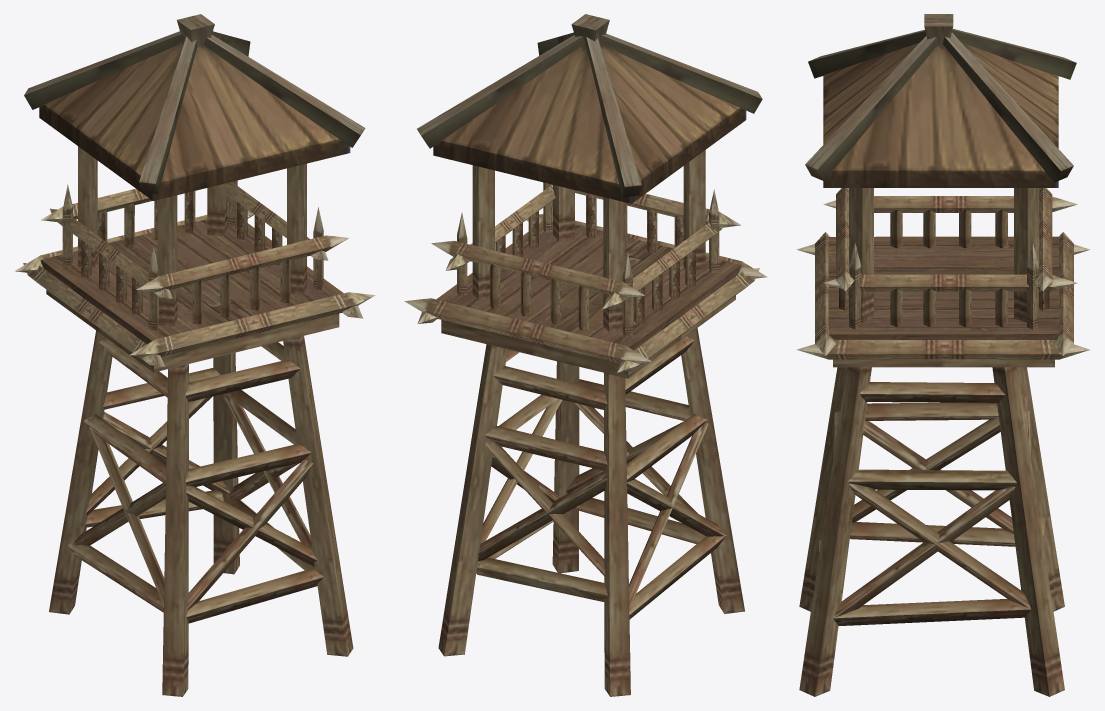
Rendered from talou01_L.fbx.
The picture shows the model from 3 angles, left to right: view 1: azimuth 30°, elevation 25°; view 2: azimuth 150°, elevation 25°; view 3: azimuth 270°, elevation 25°; orthographic projection. The views are drawn at different scales.
Parts seen in each view (by area): view 1: talou01_L; view 2: talou01_L; view 3: talou01_L.
Boxes of the visible parts, box(x1,y1,x2,y2) form: talou01_L: box(14, 14, 375, 696); talou01_L: box(404, 14, 766, 696); talou01_L: box(797, 14, 1089, 696).
Size of the model in its own units: 2.55 by 6 by 2.55.
